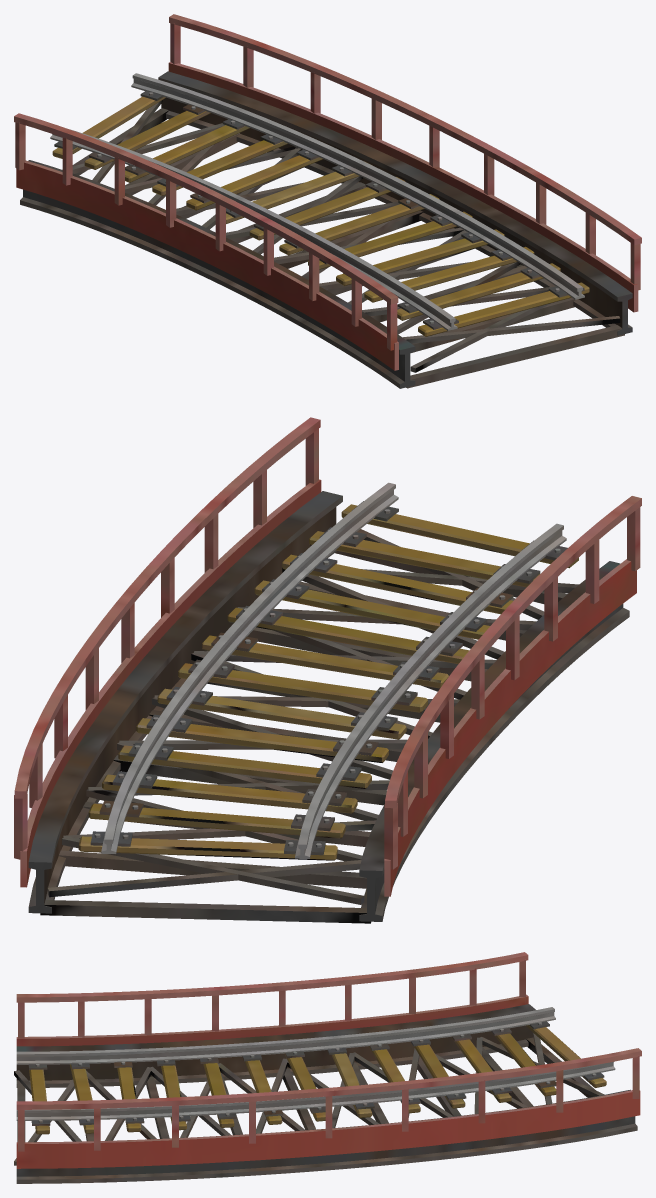
The model's file is elevated-curved-rail-a.glb.
The picture shows the model from 3 angles, top to bottom: view 1: azimuth 30°, elevation 25°; view 2: azimuth 150°, elevation 25°; view 3: azimuth 270°, elevation 25°; orthographic projection. The views are drawn at different scales.
Parts seen in each view (by area): view 1: body; view 2: body; view 3: body.
Boxes of the visible parts, x1=… form: body: x1=14, y1=14, x2=641, y2=388; body: x1=14, y1=417, x2=641, y2=923; body: x1=14, y1=952, x2=641, y2=1183.
Bounding box in the file's own units: 3.19 × 0.825 × 5.54.
Materials: 1 (1 with a texture image).
